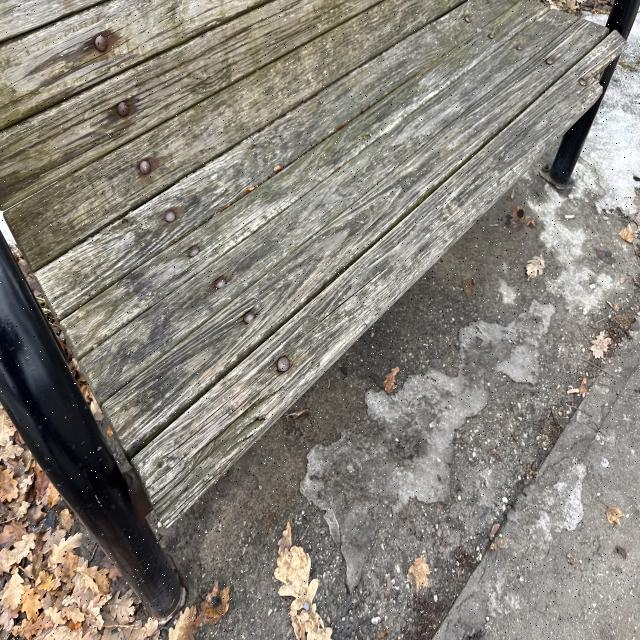Bench: (2, 4, 375, 542), (4, 2, 618, 194)
